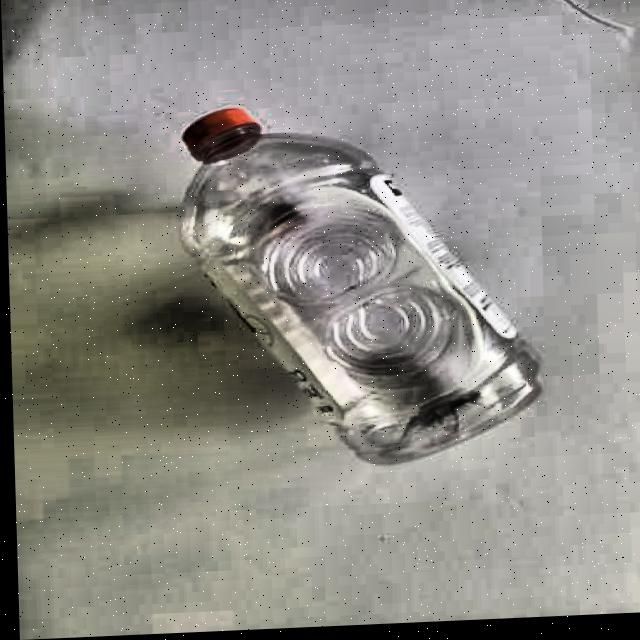plastic: (164, 93, 556, 479)
